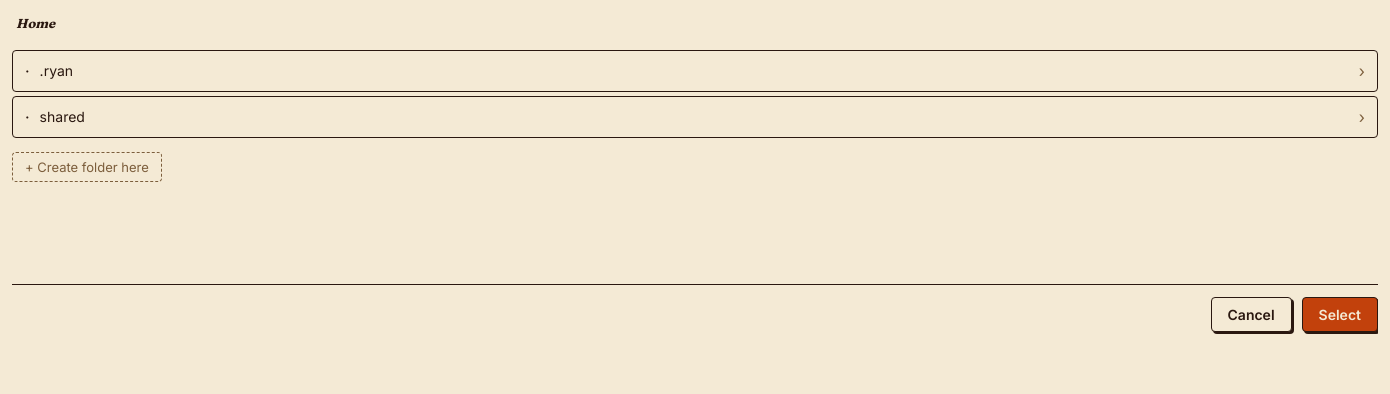
Scenario: FolderPickerModal › inline create 409: surfaces 'use existing' action
The image size is (1390, 394).
Check: the text ".ryan" is shown, box [40,62,73,79]
Click the button "+ Create folder here" at (87,166), box [12,152,162,182]
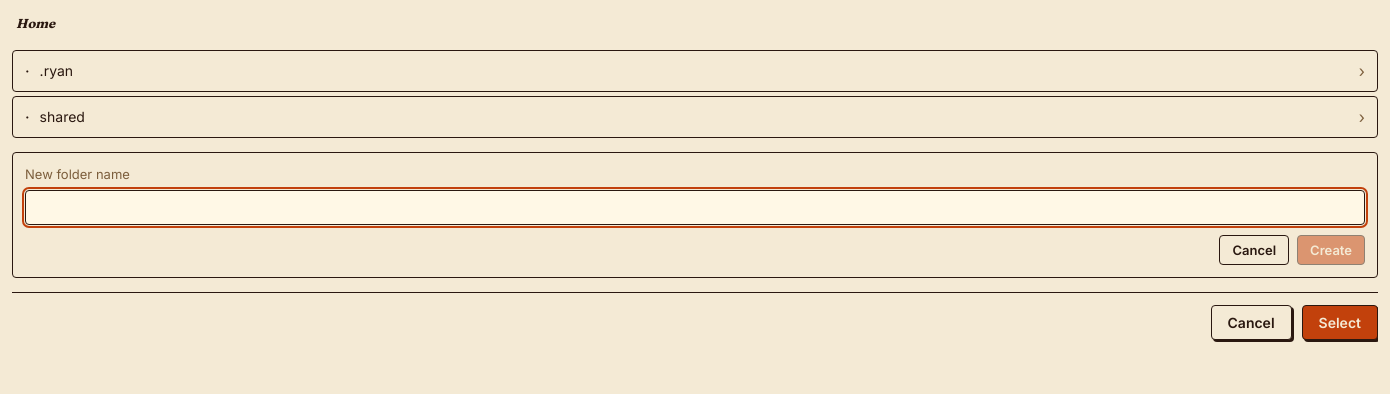
Type "shared" into the field labelled "New folder name" at (695,208), box [25,190,1365,225]
Then press Enter
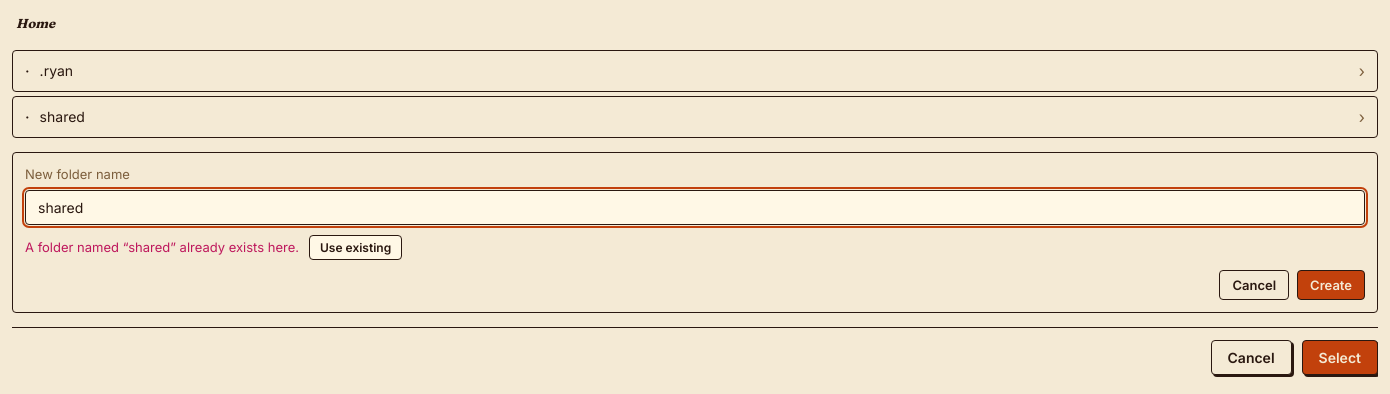
Check: the text "A folder named “shared” already exists here." is shown, box [25,238,299,257]
Check: the button "Use existing" is shown, box [309,235,402,260]
